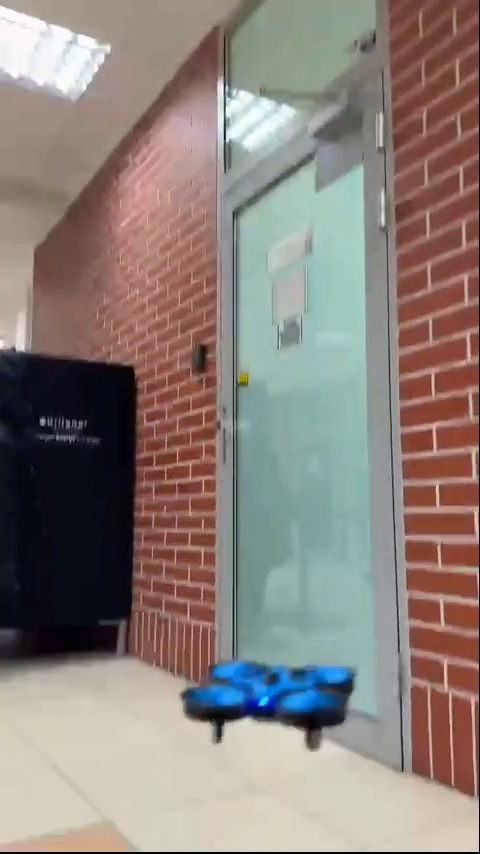drone: (186, 655, 366, 749)
